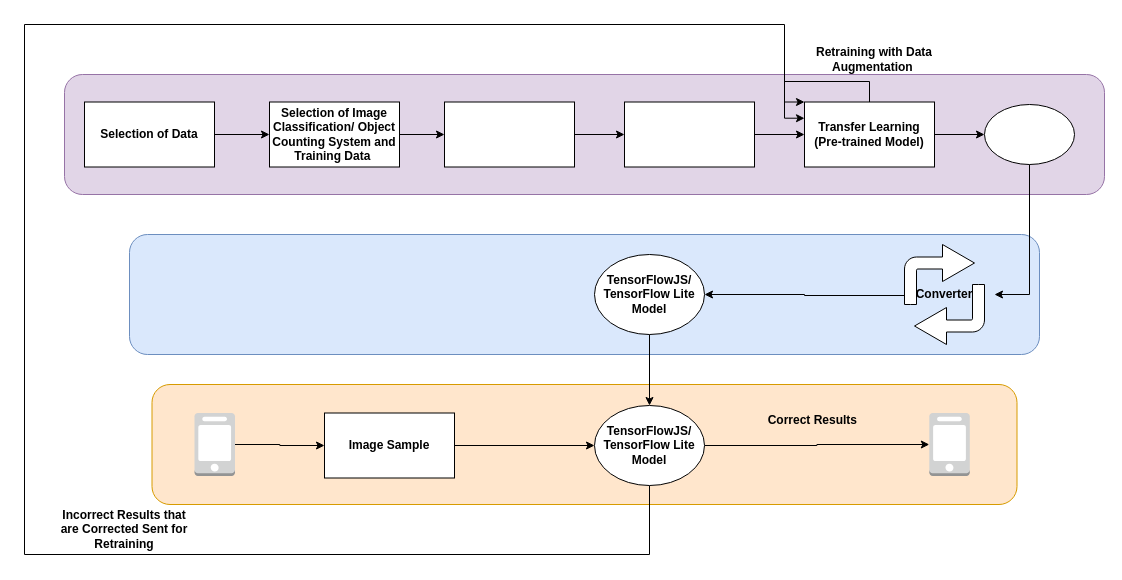
Image size: 1122x580. Some labels were removed from this diagram. The shapes that lost their labels are listed below. From the top down, each one's centre as x and y in pixels, then its label:
At (509,134): "Image Pre-processing".
At (689,134): "Extraction/Selection of Features".
At (1029,134): "TensorFlow Model".
